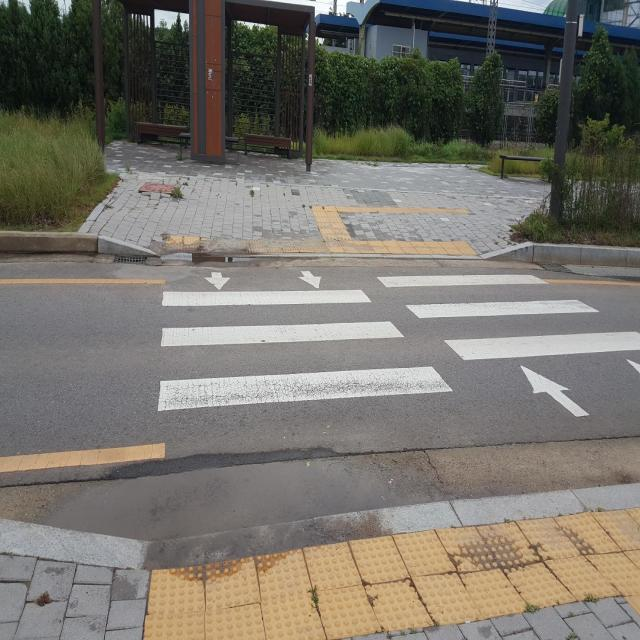횡단보도: (154, 266, 640, 422)
